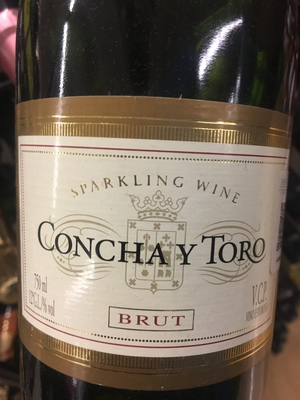brut: (14, 4, 294, 400)
